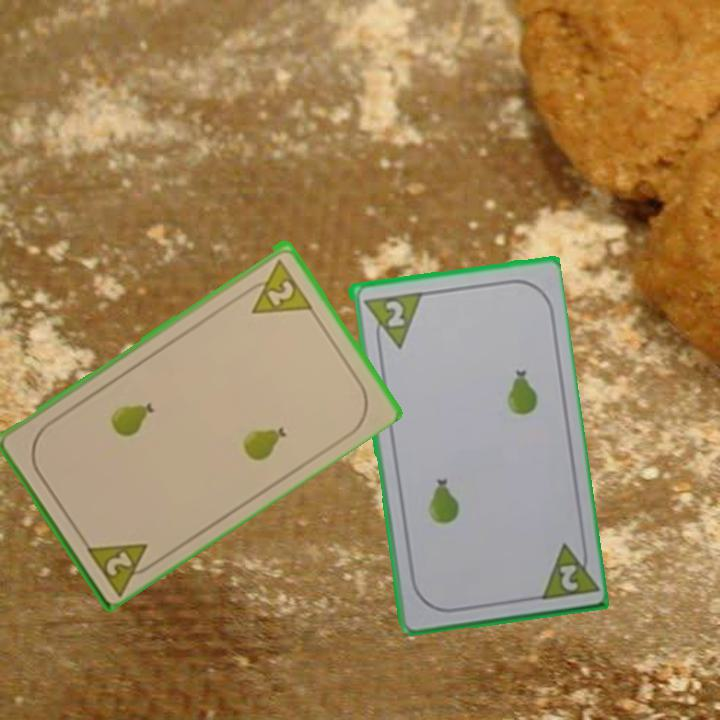2p: (238, 253, 315, 317), (102, 547, 136, 579), (381, 296, 407, 330), (555, 560, 581, 594)
